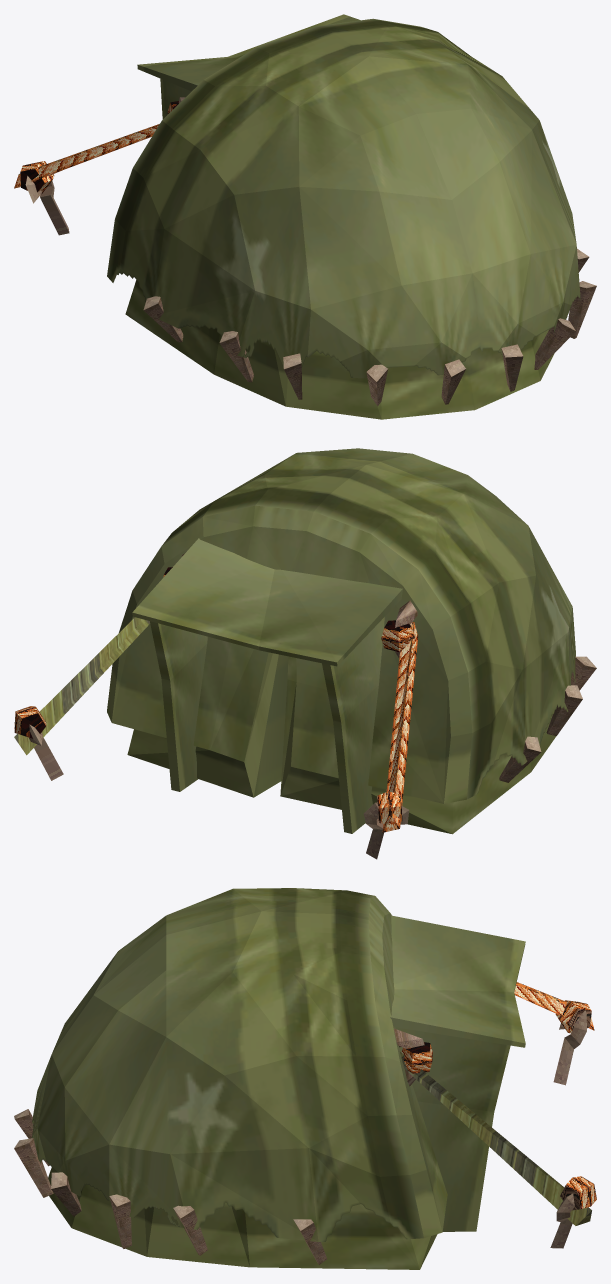
Rendered from C1SMSMALLTENTH.obj.
3 views of the same model, one above another, from view 1: azimuth 30°, elevation 25°; view 2: azimuth 150°, elevation 25°; view 3: azimuth 270°, elevation 25° (orthographic). The views are drawn at different scales.
Visible parts, largest first — view 1: Node 6, Node 0, Node 3, Node 4, Node 5; view 2: Node 6, Node 4, Node 5, Node 3, Node 2, Node 0; view 3: Node 6, Node 4, Node 5, Node 2, Node 0, Node 3.
Boxes of the visible parts, left/top/right/bottom form: Node 6: left=107, top=18, right=580, bottom=419; Node 0: left=143, top=248, right=596, bottom=406; Node 3: left=14, top=124, right=159, bottom=235; Node 4: left=137, top=14, right=360, bottom=91; Node 5: left=160, top=78, right=191, bottom=119; Node 6: left=107, top=448, right=582, bottom=834; Node 4: left=132, top=538, right=402, bottom=666; Node 5: left=149, top=617, right=384, bottom=833; Node 3: left=363, top=622, right=418, bottom=859; Node 2: left=14, top=617, right=150, bottom=780; Node 0: left=499, top=656, right=596, bottom=782; Node 6: left=32, top=888, right=447, bottom=1269; Node 4: left=390, top=915, right=525, bottom=1047; Node 5: left=395, top=1027, right=510, bottom=1231; Node 2: left=400, top=1052, right=596, bottom=1248; Node 0: left=14, top=1109, right=326, bottom=1264; Node 3: left=514, top=982, right=594, bottom=1085.
Size of the model in its own units: 6.79 by 4.48 by 8.5.
Materials: 11 (11 with a texture image).
